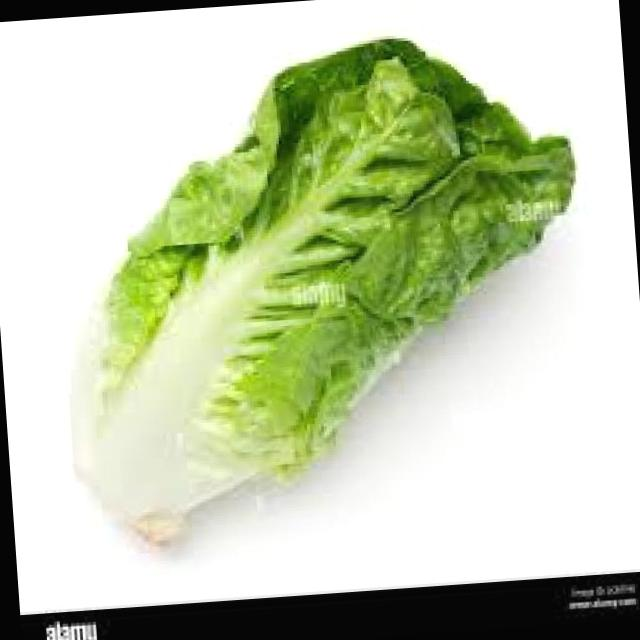Lettuce-Ready-to-Harvest: (96, 40, 573, 538)
